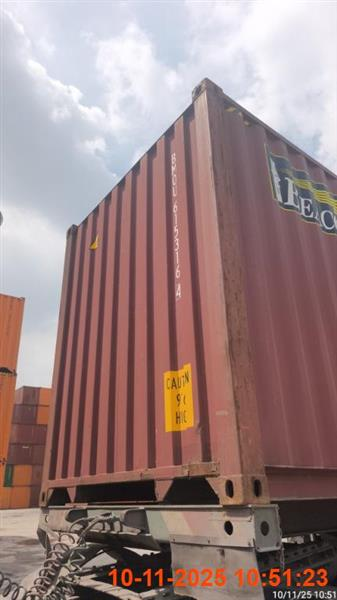rust: (34, 78, 335, 598)
